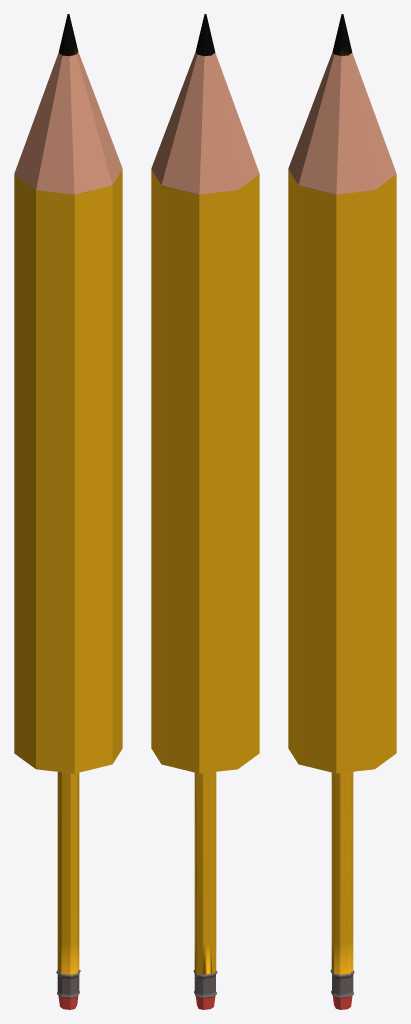
The model's file is pencil.fbx.
The picture shows the model from 3 angles, left to right: view 1: azimuth 30°, elevation 25°; view 2: azimuth 150°, elevation 25°; view 3: azimuth 330°, elevation 25°; orthographic projection.
Parts seen in each view (by area): view 1: Cube.001, Cube; view 2: Cube.001, Cube; view 3: Cube.001, Cube.
Boxes of the visible parts, x1,y1,x2,y2 form: Cube.001: (14,14,122,773); Cube: (56,772,80,1009); Cube.001: (151,14,259,773); Cube: (193,772,217,1009); Cube.001: (288,14,396,773); Cube: (330,772,354,1009).
Bounding box in the file's own units: 200 × 2188 × 200.
Materials: 2 (2 with a texture image).
